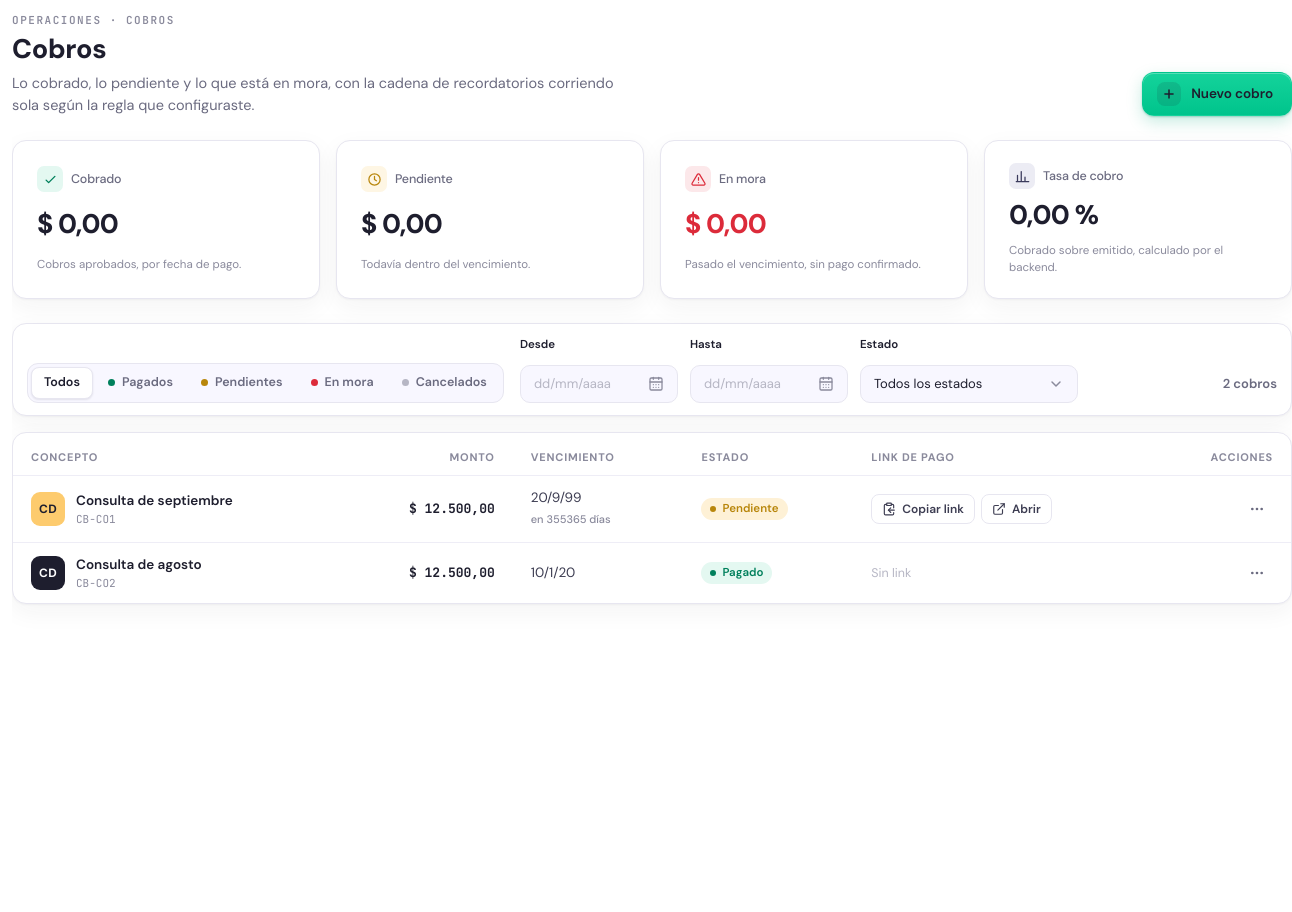
Test: el listado de cobros — menú ⋯ › ofrece ver el detalle, copiar y abrir el link, y «Ver detalle» navega
Click the button named "Más acciones para Consulta de septiembre" at (1257,509), box [1241,493,1273,525]
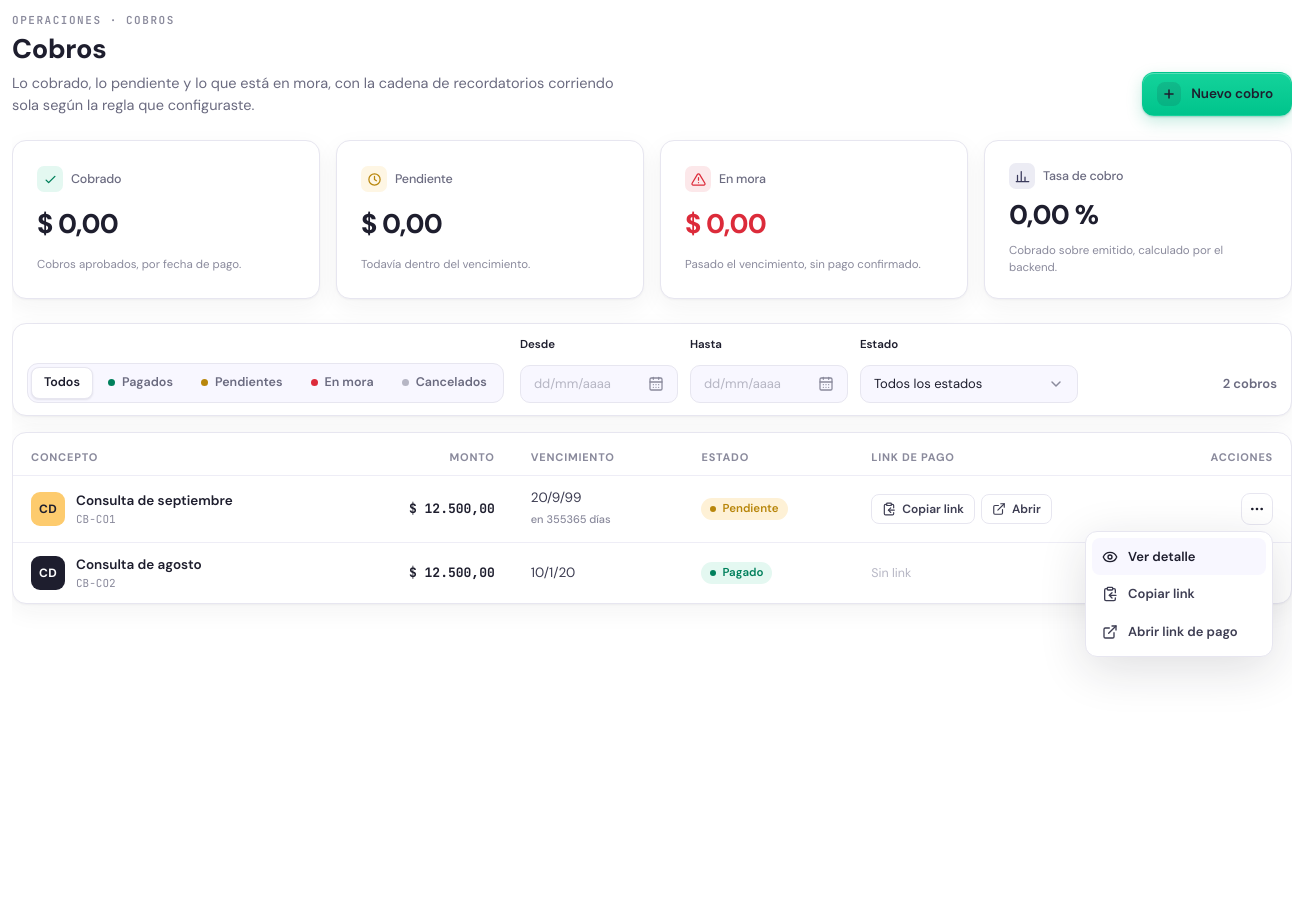
expect the menu item "Copiar link" is shown: met, box [1092,575,1266,613]
expect the menu item "Abrir link de pago" is shown: met, box [1092,613,1266,650]
Click the menu item "Ver detalle" at (1179,557), box [1092,538,1266,575]
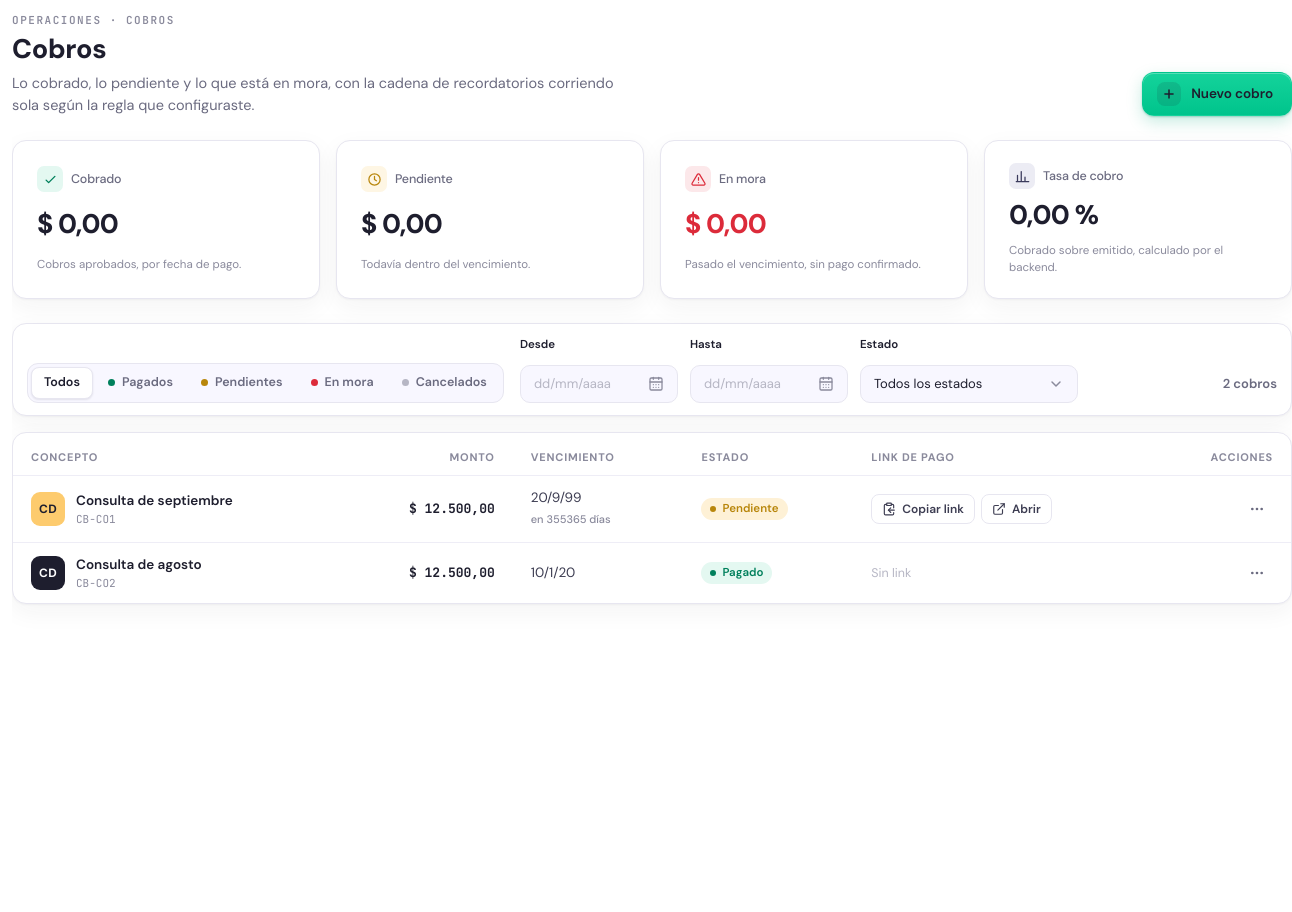
expect the menu is gone: met
